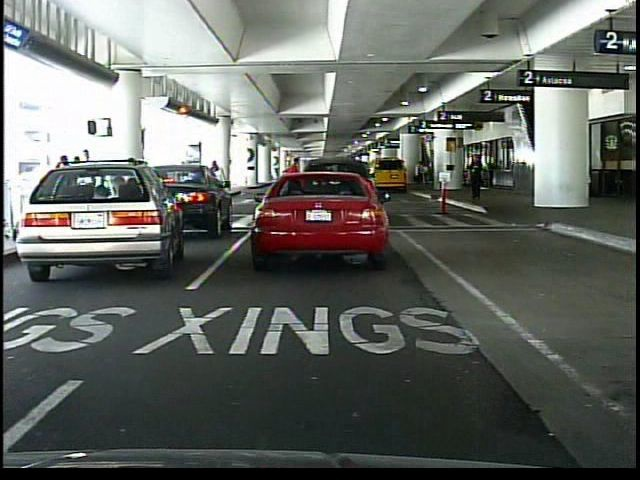person: (83, 147, 102, 222), (207, 157, 228, 213), (283, 154, 301, 208), (467, 154, 486, 201), (413, 155, 426, 191)
